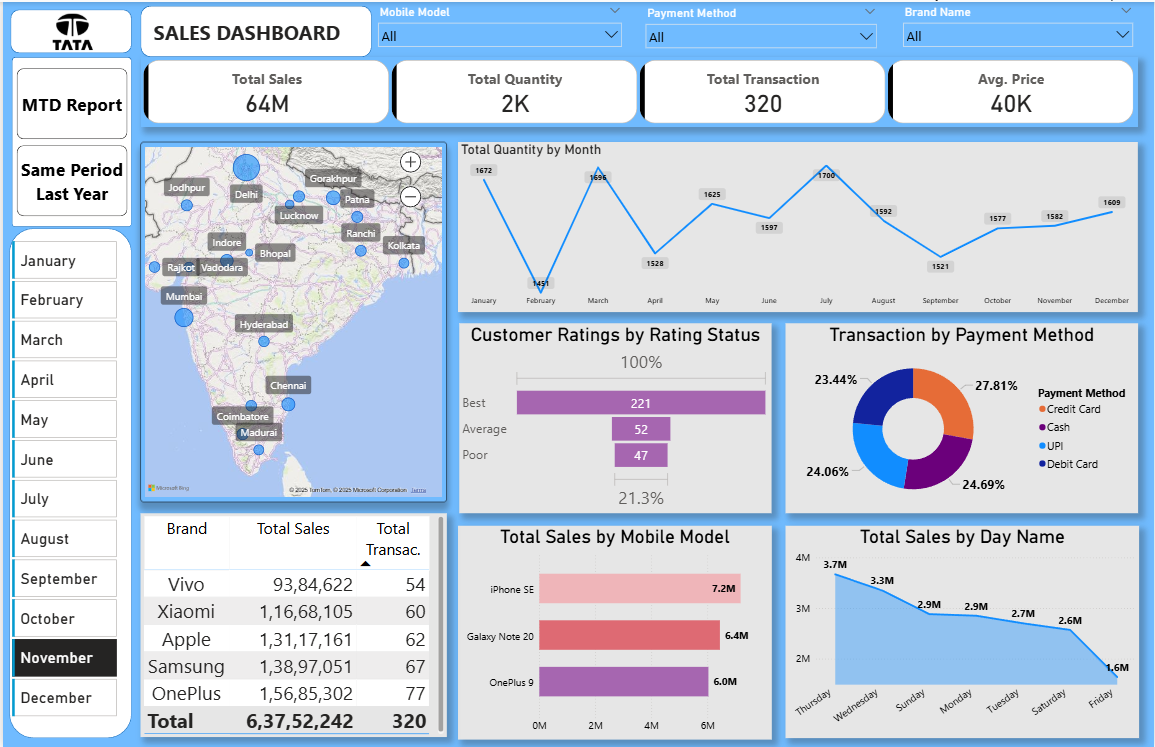

The page's visual inventory and layout, read from the dashboard file:
{"tool":"powerbi","page":{"name":"Dashboard","canvas":[1850,1200],"ordinal":0},"visuals":[{"type":"shape","box":[12.1,12.1,195,70.4],"z":0},{"type":"shape","box":[10.1,363.9,197.1,820.4],"z":1000},{"type":"shape","box":[14.1,88.5,193,273.5],"z":2000},{"type":"advancedSlicerVisual","fields":{"Values":["Custom Calendar.Date.Variation.Date Hierarchy.Month"]},"box":[10.1,380,179,780.2],"z":3000},{"type":"cardVisual","fields":{"Data":["Mobile Sales.Total Sales","Mobile Sales.Total Quantity","Mobile Sales.Total Transaction","Mobile Sales.Avg. Price"]},"box":[221.2,88.5,1604.6,112.6],"z":4000},{"type":"slicer","fields":{"Values":["Mobile Sales.Mobile Model"]},"box":[593.2,0,412.2,76.4],"z":5000},{"type":"slicer","fields":{"Values":["Mobile Sales.Payment Method"]},"box":[1023.5,2,392.1,76.4],"z":6000},{"type":"slicer","fields":{"Values":["Mobile Sales.Brand"]},"box":[1437.7,0,390.1,76.4],"z":7000},{"type":"shape","box":[221.2,6,372,82.4],"z":8000},{"type":"textbox","box":[237.3,22.1,341.8,52.3],"z":9000},{"type":"map","fields":{"Category":["Mobile Sales.City"],"Size":["Mobile Sales.Total Sales"]},"box":[221.2,225.2,492.6,579.1],"z":10000},{"type":"lineChart","fields":{"Y":["Mobile Sales.Total Quantity"],"Category":["Custom Calendar.Date.Variation.Date Hierarchy.Month"]},"box":[731.9,225.2,1093.8,273.5],"z":11000},{"type":"funnel","title":"Customer Ratings by Rating Status","fields":{"Y":["CountNonNull(Mobile Sales.Customer Ratings)"],"Category":["Mobile Sales.Rating Status"]},"box":[733.9,516.8,502.7,305.6],"z":12000},{"type":"donutChart","title":"Transaction by Payment Method","fields":{"Category":["Mobile Sales.Payment Method"],"Y":["Mobile Sales.Total Transaction"]},"box":[1258.7,516.8,567,305.6],"z":13000},{"type":"clusteredBarChart","fields":{"Y":["Mobile Sales.Total Sales"],"Category":["Mobile Sales.Mobile Model"]},"box":[731.9,842.5,504.7,343.8],"z":14000},{"type":"areaChart","fields":{"Category":["Custom Calendar.Day Name"],"Y":["Mobile Sales.Total Sales"]},"box":[1258.7,842.5,569,341.8],"z":15000},{"type":"tableEx","fields":{"Values":["Mobile Sales.Brand","Mobile Sales.Total Sales","Mobile Sales.Total Transaction"]},"box":[221.2,822.4,492.6,359.9],"z":16000},{"type":"pageNavigator","box":[22.1,106.6,179,239.3],"z":17000},{"type":"image","box":[64.3,4,86.5,88.5],"z":18000}]}

Visuals, with their boxes in screenshot pixels (x1, y1, x2, y2), scaled from the page's 1850x1200 canvas onto the 1155x747 screenshot:
shape: (left=8, top=8, right=129, bottom=51)
shape: (left=6, top=227, right=129, bottom=737)
shape: (left=9, top=55, right=129, bottom=225)
advancedSlicerVisual - Custom Calendar.Date.Variation.Date Hierarchy.Month: (left=6, top=237, right=118, bottom=722)
cardVisual - Mobile Sales.Total Sales x Mobile Sales.Total Quantity: (left=138, top=55, right=1140, bottom=125)
slicer - Mobile Sales.Mobile Model: (left=370, top=0, right=628, bottom=48)
slicer - Mobile Sales.Payment Method: (left=639, top=1, right=884, bottom=49)
slicer - Mobile Sales.Brand: (left=898, top=0, right=1141, bottom=48)
shape: (left=138, top=4, right=370, bottom=55)
textbox: (left=148, top=14, right=362, bottom=46)
map - Mobile Sales.City x Mobile Sales.Total Sales: (left=138, top=140, right=446, bottom=501)
lineChart - Mobile Sales.Total Quantity x Custom Calendar.Date.Variation.Date Hierarchy.Month: (left=457, top=140, right=1140, bottom=310)
"Customer Ratings by Rating Status" funnel: (left=458, top=322, right=772, bottom=512)
"Transaction by Payment Method" donutChart: (left=786, top=322, right=1140, bottom=512)
clusteredBarChart - Mobile Sales.Total Sales x Mobile Sales.Mobile Model: (left=457, top=524, right=772, bottom=738)
areaChart - Custom Calendar.Day Name x Mobile Sales.Total Sales: (left=786, top=524, right=1141, bottom=737)
tableEx - Mobile Sales.Brand x Mobile Sales.Total Sales: (left=138, top=512, right=446, bottom=736)
pageNavigator: (left=14, top=66, right=126, bottom=215)
image: (left=40, top=2, right=94, bottom=58)
